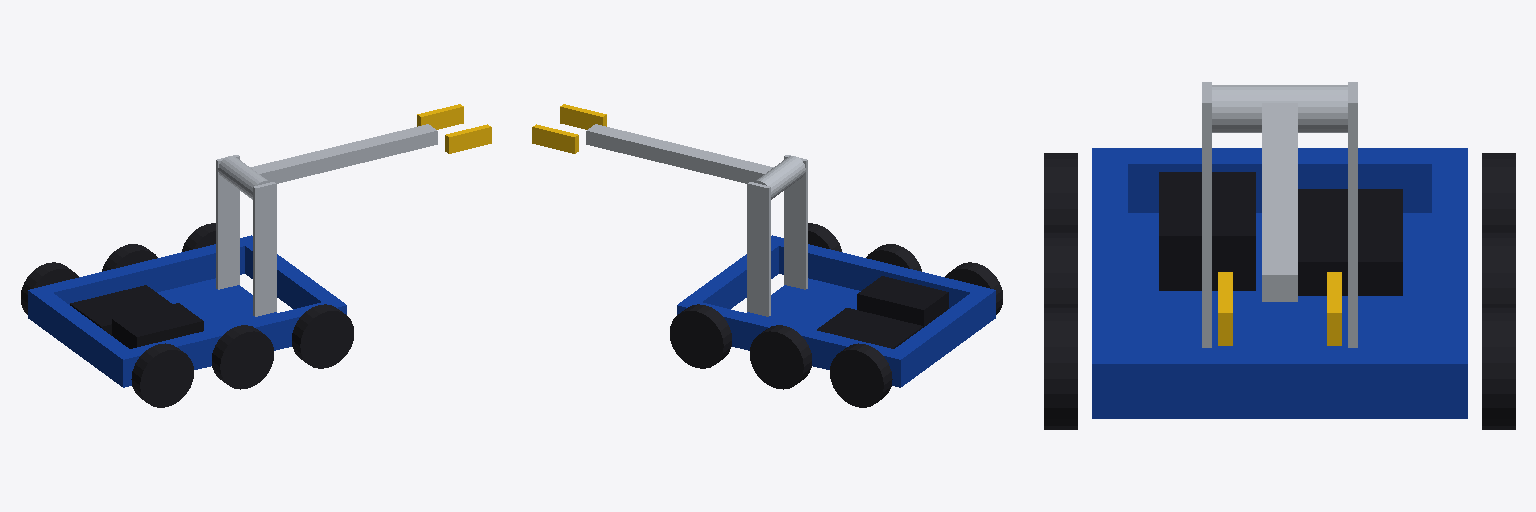
URDF robot description (arm-bot):
<?xml version="1.0"?>
<!-- Example robot for the FTC simulator: a six-wheel tank with an arm and a two-servo claw,
     written the way CAD URDF exporters (onshape-to-robot, fusion2urdf, sw_urdf_exporter) write it. -->
<robot name="arm-bot">
  <material name="aluminum"><color rgba="0.74 0.76 0.79 1"/></material>
  <material name="blue"><color rgba="0.12 0.31 0.70 1"/></material>
  <material name="dark"><color rgba="0.13 0.13 0.15 1"/></material>
  <material name="tire"><color rgba="0.16 0.16 0.18 1"/></material>
  <material name="yellow"><color rgba="0.96 0.76 0.10 1"/></material>

  <link name="base_link">
    <inertial><origin xyz="-0.03 0 0" rpy="0 0 0"/><mass value="8.3"/>
      <inertia ixx="0.075" ixy="0" ixz="0" iyy="0.13" iyz="0" izz="0.19"/></inertial>
    <visual><geometry><mesh filename="package://arm-bot/meshes/frame.stl"/></geometry><material name="blue"/></visual>
    <visual><geometry><mesh filename="package://arm-bot/meshes/electronics.stl"/></geometry><material name="dark"/></visual>
    <visual><geometry><mesh filename="package://arm-bot/meshes/arm_tower.stl"/></geometry><material name="aluminum"/></visual>
  </link>
  <link name="left_front_wheel">
    <inertial><mass value="0.2"/><inertia ixx="0.00013" ixy="0" ixz="0" iyy="0.00026" iyz="0" izz="0.00013"/></inertial>
    <visual><geometry><mesh filename="package://arm-bot/meshes/wheel.stl"/></geometry><material name="tire"/></visual>
  </link>
  <link name="left_middle_wheel">
    <inertial><mass value="0.2"/><inertia ixx="0.00013" ixy="0" ixz="0" iyy="0.00026" iyz="0" izz="0.00013"/></inertial>
    <visual><geometry><mesh filename="package://arm-bot/meshes/wheel.stl"/></geometry><material name="tire"/></visual>
  </link>
  <link name="left_back_wheel">
    <inertial><mass value="0.2"/><inertia ixx="0.00013" ixy="0" ixz="0" iyy="0.00026" iyz="0" izz="0.00013"/></inertial>
    <visual><geometry><mesh filename="package://arm-bot/meshes/wheel.stl"/></geometry><material name="tire"/></visual>
  </link>
  <link name="right_front_wheel">
    <inertial><mass value="0.2"/><inertia ixx="0.00013" ixy="0" ixz="0" iyy="0.00026" iyz="0" izz="0.00013"/></inertial>
    <visual><geometry><mesh filename="package://arm-bot/meshes/wheel.stl"/></geometry><material name="tire"/></visual>
  </link>
  <link name="right_middle_wheel">
    <inertial><mass value="0.2"/><inertia ixx="0.00013" ixy="0" ixz="0" iyy="0.00026" iyz="0" izz="0.00013"/></inertial>
    <visual><geometry><mesh filename="package://arm-bot/meshes/wheel.stl"/></geometry><material name="tire"/></visual>
  </link>
  <link name="right_back_wheel">
    <inertial><mass value="0.2"/><inertia ixx="0.00013" ixy="0" ixz="0" iyy="0.00026" iyz="0" izz="0.00013"/></inertial>
    <visual><geometry><mesh filename="package://arm-bot/meshes/wheel.stl"/></geometry><material name="tire"/></visual>
  </link>

  <link name="arm_link">
    <inertial><origin xyz="0.175 0 0" rpy="0 0 0"/><mass value="0.5"/>
      <inertia ixx="0.00006" ixy="0" ixz="0" iyy="0.0051" iyz="0" izz="0.0051"/></inertial>
    <visual><geometry><mesh filename="package://arm-bot/meshes/arm.stl"/></geometry><material name="aluminum"/></visual>
  </link>
  <link name="left_finger">
    <inertial><origin xyz="0.04 0 0" rpy="0 0 0"/><mass value="0.04"/>
      <inertia ixx="0.000004" ixy="0" ixz="0" iyy="0.000024" iyz="0" izz="0.000022"/></inertial>
    <visual><geometry><mesh filename="package://arm-bot/meshes/finger.stl"/></geometry><material name="yellow"/></visual>
  </link>
  <link name="right_finger">
    <inertial><origin xyz="0.04 0 0" rpy="0 0 0"/><mass value="0.04"/>
      <inertia ixx="0.000004" ixy="0" ixz="0" iyy="0.000024" iyz="0" izz="0.000022"/></inertial>
    <visual><geometry><mesh filename="package://arm-bot/meshes/finger.stl"/></geometry><material name="yellow"/></visual>
  </link>

  <joint name="left_front_wheel_axle" type="continuous">
    <parent link="base_link"/><child link="left_front_wheel"/>
    <origin xyz="0.15 0.18 -0.0072" rpy="0 0 0"/><axis xyz="0 1 0"/>
  </joint>
  <joint name="left_middle_wheel_axle" type="continuous">
    <parent link="base_link"/><child link="left_middle_wheel"/>
    <origin xyz="0.0 0.18 -0.0092" rpy="0 0 0"/><axis xyz="0 1 0"/>
  </joint>
  <joint name="left_back_wheel_axle" type="continuous">
    <parent link="base_link"/><child link="left_back_wheel"/>
    <origin xyz="-0.15 0.18 -0.0072" rpy="0 0 0"/><axis xyz="0 1 0"/>
  </joint>
  <joint name="right_front_wheel_axle" type="continuous">
    <parent link="base_link"/><child link="right_front_wheel"/>
    <origin xyz="0.15 -0.18 -0.0072" rpy="0 0 0"/><axis xyz="0 1 0"/>
  </joint>
  <joint name="right_middle_wheel_axle" type="continuous">
    <parent link="base_link"/><child link="right_middle_wheel"/>
    <origin xyz="0.0 -0.18 -0.0092" rpy="0 0 0"/><axis xyz="0 1 0"/>
  </joint>
  <joint name="right_back_wheel_axle" type="continuous">
    <parent link="base_link"/><child link="right_back_wheel"/>
    <origin xyz="-0.15 -0.18 -0.0072" rpy="0 0 0"/><axis xyz="0 1 0"/>
  </joint>
  <!-- The arm pivots on a shaft across the robot; positive turns it up. -->
  <joint name="left_arm" type="revolute">
    <parent link="base_link"/><child link="arm_link"/>
    <origin xyz="0.11 0 0.21" rpy="0 0 0"/><axis xyz="0 -1 0"/>
    <limit lower="-0.62" upper="2.1" effort="7" velocity="12"/>
  </joint>
  <!-- Claw fingers at the end of the arm; positive closes each one. -->
  <joint name="left_hand" type="revolute">
    <parent link="arm_link"/><child link="left_finger"/>
    <origin xyz="0.35 0.045 0" rpy="0 0 0"/><axis xyz="0 0 -1"/>
    <limit lower="-0.7" upper="0.5" effort="2" velocity="7"/>
  </joint>
  <joint name="right_hand" type="revolute">
    <parent link="arm_link"/><child link="right_finger"/>
    <origin xyz="0.35 -0.045 0" rpy="0 0 0"/><axis xyz="0 0 1"/>
    <limit lower="-0.7" upper="0.5" effort="2" velocity="7"/>
  </joint>
</robot>

--- Render facts (derived) ---
The picture shows the robot from 3 angles, left to right: view 1: azimuth 30°, elevation 25°; view 2: azimuth 150°, elevation 25°; view 3: azimuth 270°, elevation 25°; orthographic projection.
Robot: arm-bot — 10 links, 9 joints (3 revolute, 6 continuous); root link base_link; default pose: all joints at 0.
Visible links, largest first — view 1: base_link, arm_link, right_front_wheel, right_middle_wheel, right_back_wheel, left_back_wheel, right_finger, left_middle_wheel, left_finger, left_front_wheel; view 2: base_link, arm_link, left_front_wheel, left_middle_wheel, left_back_wheel, right_back_wheel, left_finger, right_middle_wheel, right_finger, right_front_wheel; view 3: base_link, arm_link, left_front_wheel, right_front_wheel, left_back_wheel, right_back_wheel, left_middle_wheel, right_middle_wheel, left_finger, right_finger.
Link boxes in pixels (x1,y1,x2,y2): base_link: (28,155,346,387); arm_link: (218,124,437,199); right_front_wheel: (292,304,353,368); right_middle_wheel: (212,325,273,389); right_back_wheel: (131,343,193,407); left_back_wheel: (21,262,78,314); right_finger: (445,124,491,153); left_middle_wheel: (102,244,157,271); left_finger: (417,104,463,129); left_front_wheel: (182,223,215,251); base_link: (677,155,995,387); arm_link: (586,124,805,199); left_front_wheel: (670,304,731,368); left_middle_wheel: (750,325,811,389); left_back_wheel: (830,343,892,407); right_back_wheel: (945,262,1002,314); left_finger: (532,124,578,153); right_middle_wheel: (866,244,921,271); right_finger: (560,104,606,129); right_front_wheel: (808,223,841,251); base_link: (1092,82,1467,418); arm_link: (1212,85,1347,301); left_front_wheel: (1482,307,1515,429); right_front_wheel: (1044,307,1077,429); left_back_wheel: (1482,153,1515,231); right_back_wheel: (1044,153,1077,231); left_middle_wheel: (1482,232,1515,306); right_middle_wheel: (1044,232,1077,306); left_finger: (1327,272,1341,345); right_finger: (1218,272,1232,345).
Bounding box of the posed robot: 0.75 × 0.388 × 0.29 m (x, y, z).
Meshes: 6 distinct files referenced, 12 mesh visuals loaded (6 binary STL).
